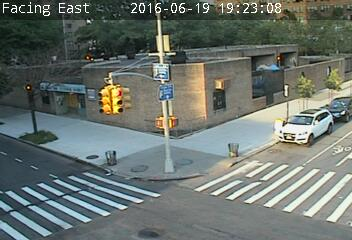neg: (221, 131, 253, 173), (226, 190, 255, 230), (66, 29, 95, 69), (297, 121, 326, 160), (112, 85, 141, 124), (25, 76, 53, 113), (286, 186, 312, 222), (28, 156, 53, 190), (217, 60, 240, 90), (266, 69, 288, 98), (146, 195, 168, 223), (155, 71, 176, 100), (163, 149, 184, 177), (69, 120, 89, 148), (118, 149, 138, 176)
